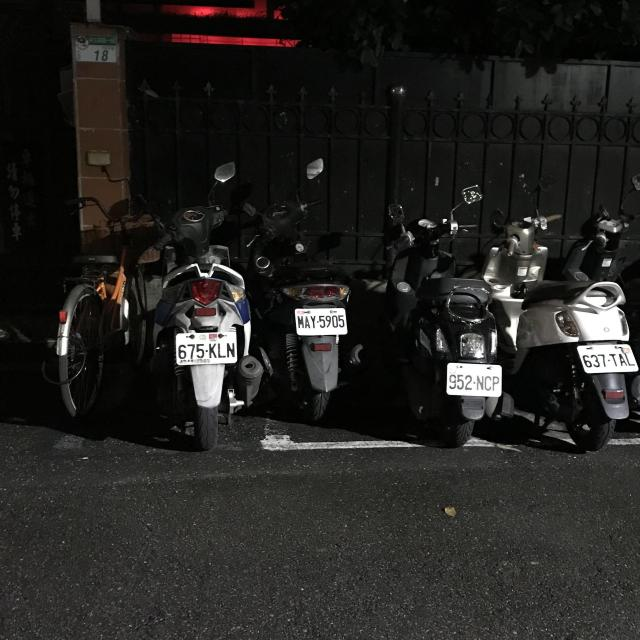W: (172, 328, 240, 367), (443, 360, 508, 398), (573, 340, 639, 376), (291, 305, 350, 337)
